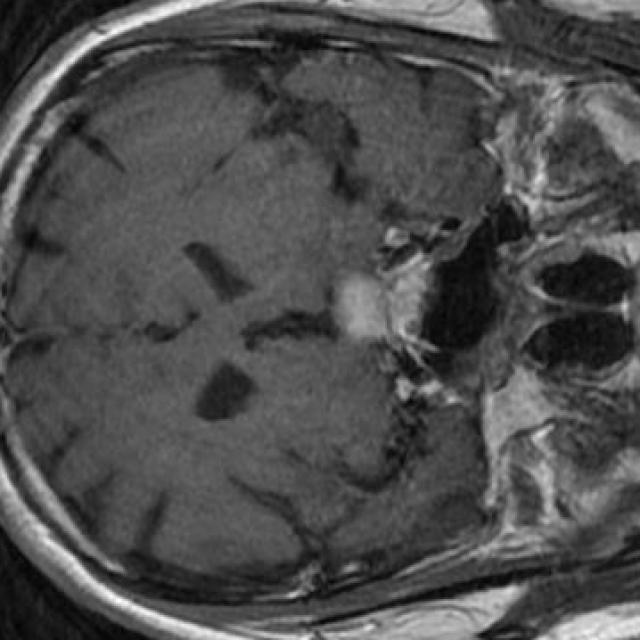pituitary: (332, 260, 433, 341)
